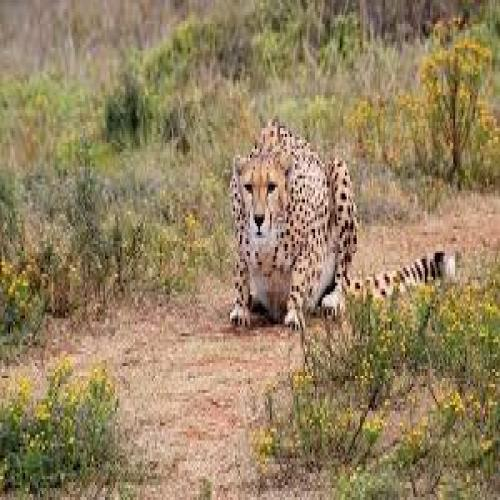cheetah-endangered: (229, 115, 358, 333)
